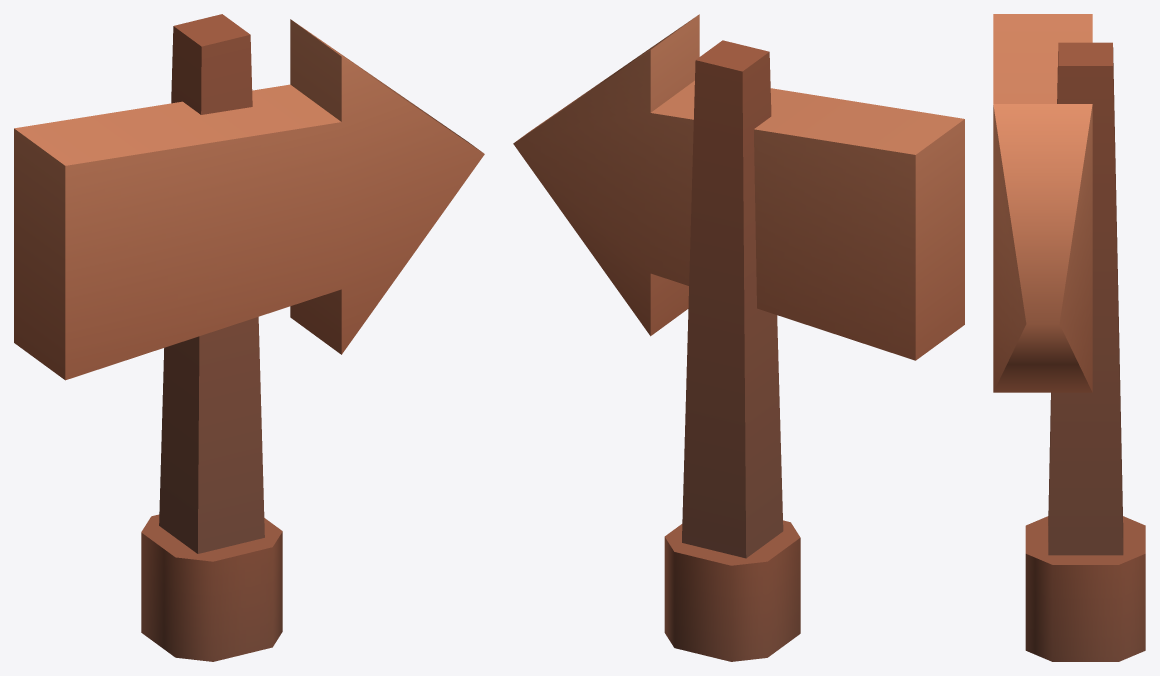
File: arrow.glb
3 renders of one model, left to right at view 1: azimuth 30°, elevation 25°; view 2: azimuth 150°, elevation 25°; view 3: azimuth 270°, elevation 25°, orthographic. The views are drawn at different scales.
Visible parts, largest first — view 1: arrow; view 2: arrow; view 3: arrow.
Boxes of the visible parts, <box> form: arrow: <box>14,14,484,661</box>; arrow: <box>513,14,964,661</box>; arrow: <box>993,14,1145,661</box>.
Size of the model in its own units: 0.4557 by 0.6 by 0.1423.
1 material, 1 textured.
